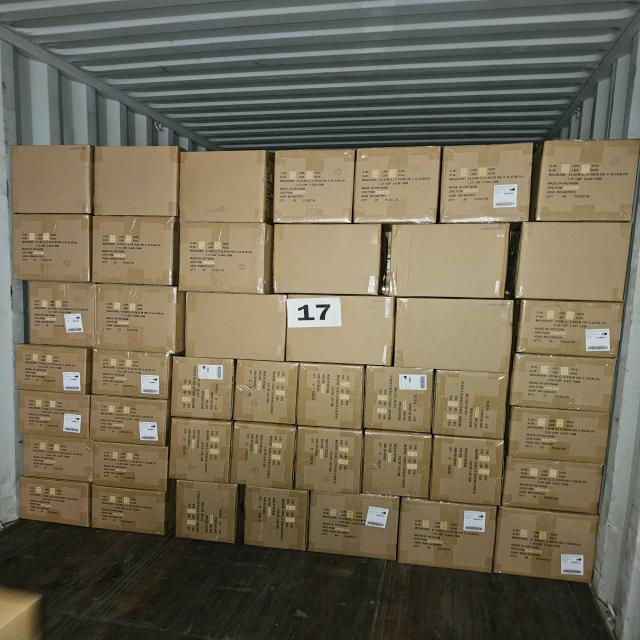Carton: (393, 294, 510, 372), (388, 224, 506, 300), (520, 223, 627, 306), (498, 506, 599, 586), (538, 140, 636, 222), (272, 221, 379, 294), (288, 296, 395, 367), (443, 144, 532, 226), (398, 501, 495, 574), (183, 295, 285, 364), (180, 152, 268, 226), (179, 220, 269, 292), (358, 148, 441, 226), (310, 495, 400, 564), (519, 300, 622, 360), (277, 150, 356, 227), (97, 284, 181, 356), (94, 148, 178, 220), (511, 406, 612, 464), (95, 214, 176, 286), (12, 142, 90, 214), (506, 461, 604, 517), (514, 353, 615, 407), (14, 213, 93, 281), (431, 370, 503, 440), (431, 435, 502, 504), (29, 280, 99, 348), (363, 368, 432, 435), (364, 434, 433, 501), (297, 425, 364, 492), (296, 361, 362, 426), (232, 425, 298, 490), (244, 490, 309, 554), (172, 359, 235, 423), (237, 359, 300, 423), (175, 481, 238, 544), (170, 418, 232, 482), (88, 486, 165, 536), (88, 398, 166, 447), (15, 344, 91, 394), (88, 351, 168, 398), (18, 437, 94, 485), (19, 478, 91, 528), (17, 393, 92, 440), (94, 444, 170, 490)
